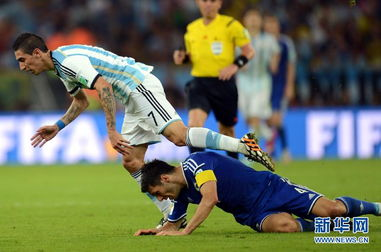fall: (126, 147, 381, 235)
